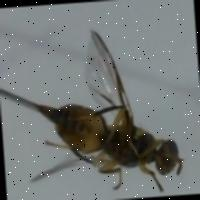Oriental-fruit-fly: (30, 4, 200, 198)
